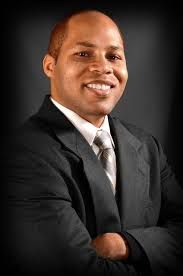no-mask: (33, 8, 134, 121)
